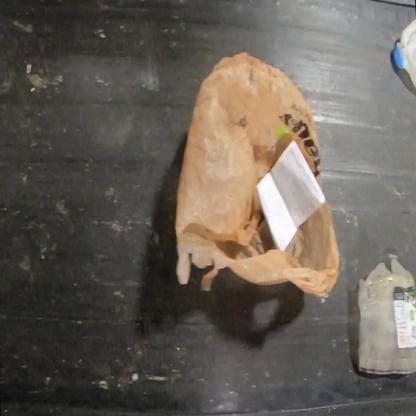rigid_plastic: (357, 256, 415, 376), (392, 18, 415, 91)
soft_plastic: (174, 51, 340, 300)
